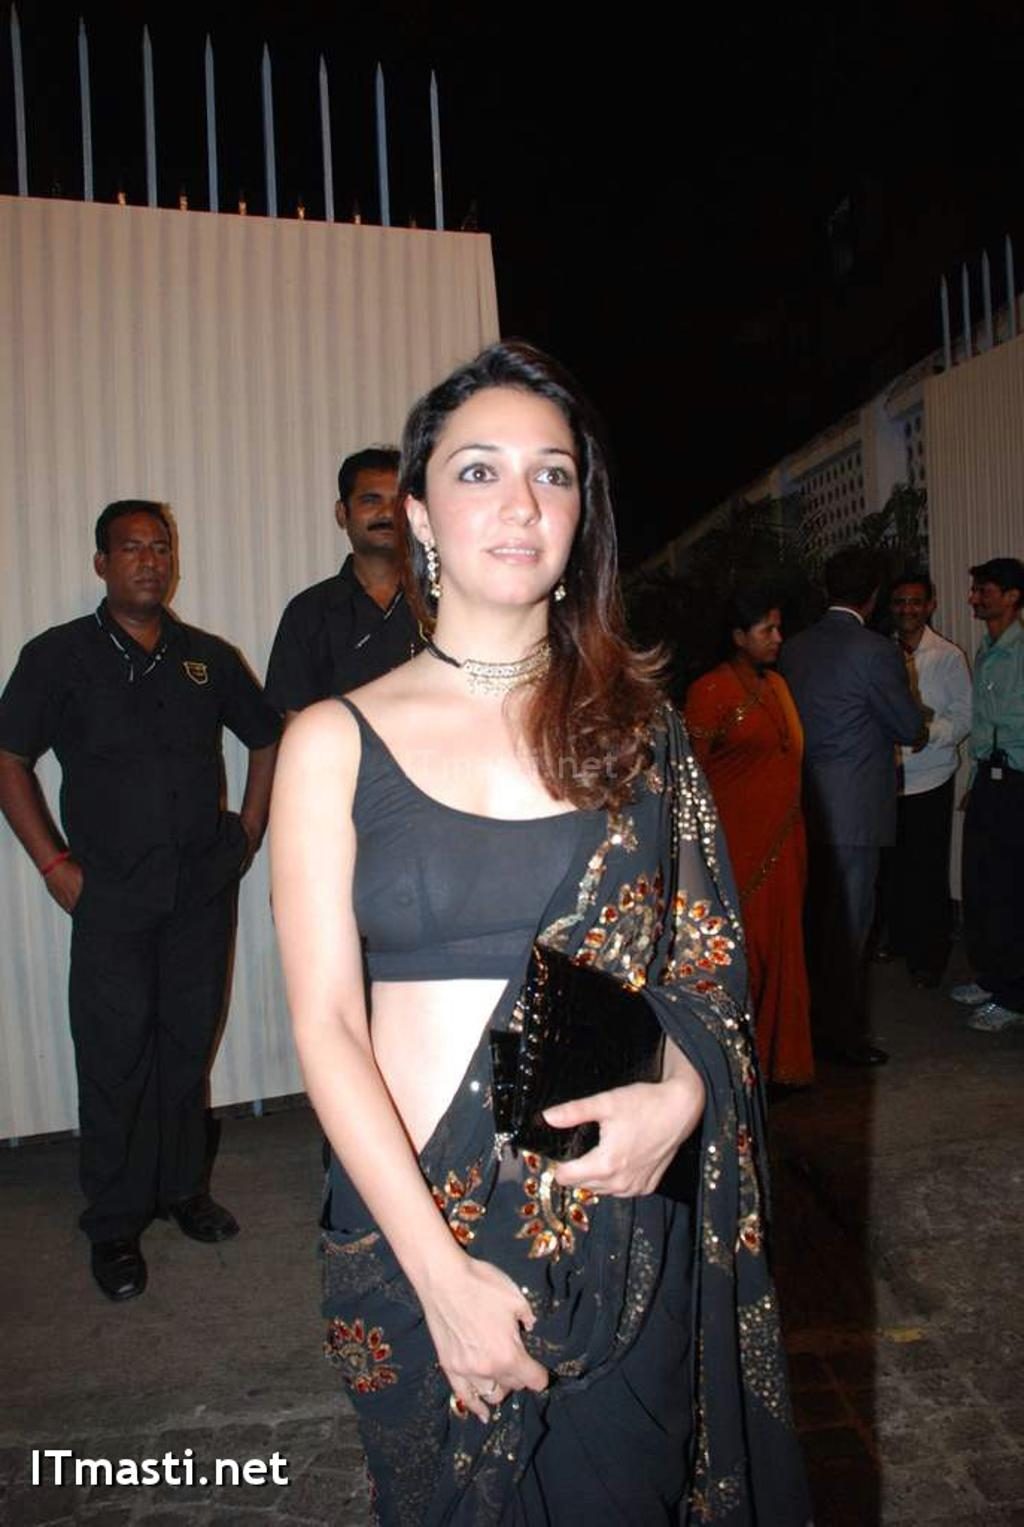face: (427, 393, 580, 602), (106, 521, 171, 604), (344, 473, 414, 546), (745, 614, 782, 663), (968, 580, 1006, 619), (892, 588, 927, 630)
